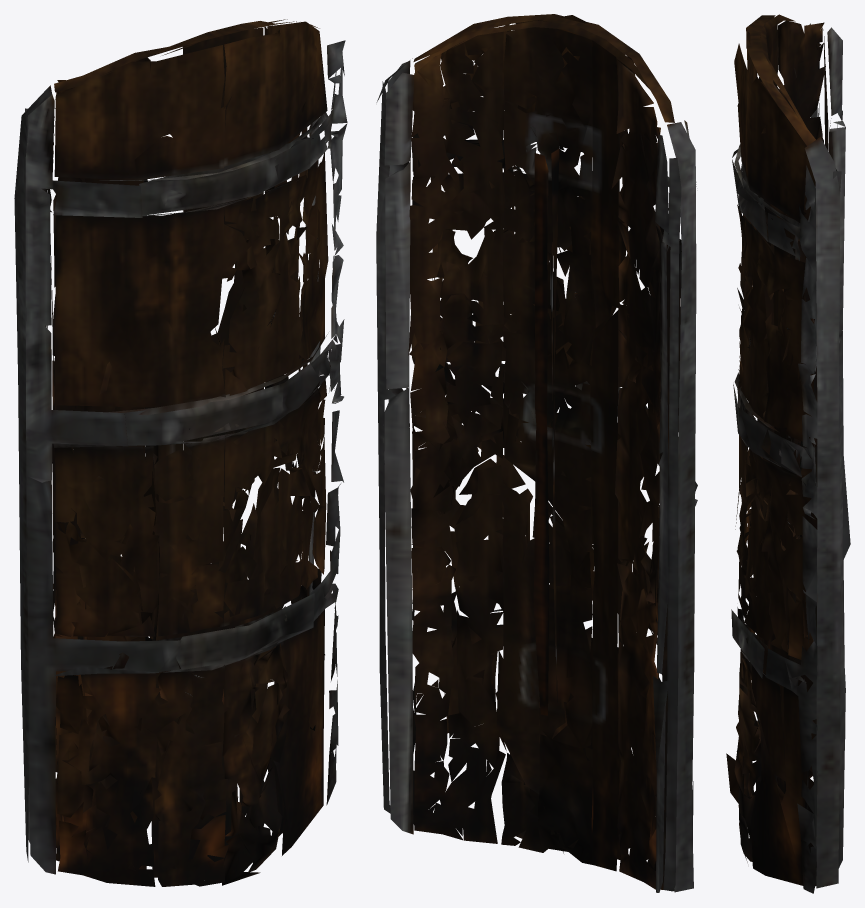
File: tower-shield-8k-v3.glb
3 renders of one model, left to right at view 1: azimuth 30°, elevation 25°; view 2: azimuth 150°, elevation 25°; view 3: azimuth 270°, elevation 25°, orthographic. The views are drawn at different scales.
Parts seen in each view (by area): view 1: tower-shield-8k-v2; view 2: tower-shield-8k-v2; view 3: tower-shield-8k-v2.
Boxes of the visible parts, <box> form: tower-shield-8k-v2: <box>14,19,347,886</box>; tower-shield-8k-v2: <box>376,14,697,892</box>; tower-shield-8k-v2: <box>726,14,850,893</box>.
Bounding box in the file's own units: 0.3834 × 0.9797 × 0.1357.
Materials: 1 (1 with a texture image).
